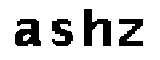a: (12, 15, 43, 50)
h: (82, 6, 114, 49)
s: (49, 17, 75, 48)
z: (116, 15, 148, 49)
